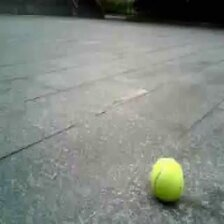tennis: (151, 159, 183, 199)
